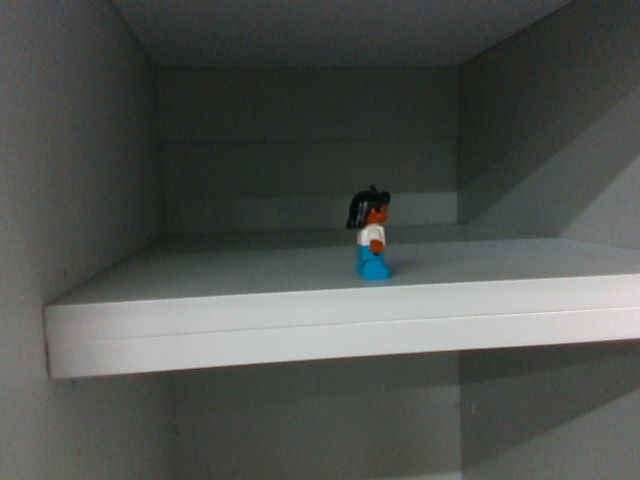people: (347, 186, 397, 282)
